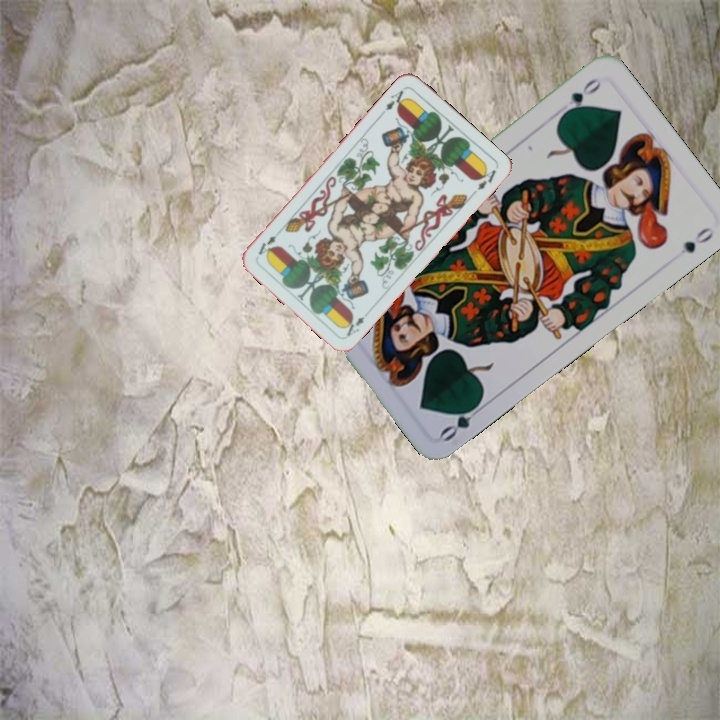EA: (381, 84, 410, 113), (340, 312, 367, 339)
GO: (436, 396, 488, 444), (557, 73, 605, 119)
